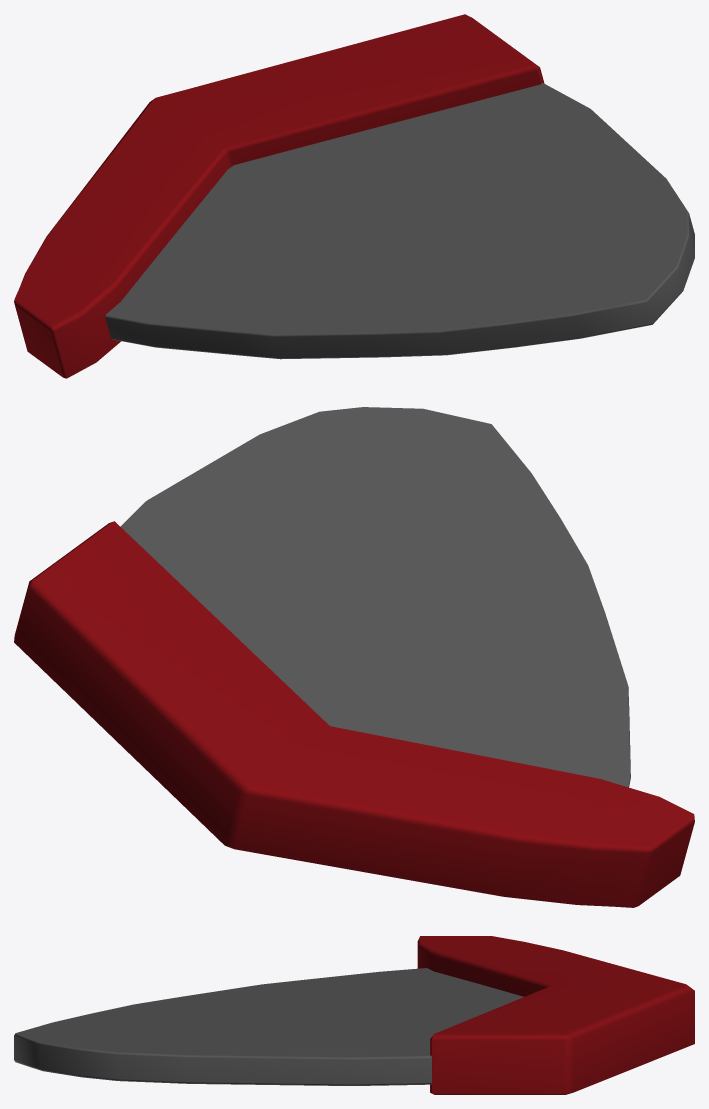
Rendered from Ship_enemy_04_Wing_R.fbx.
3 renders of one model, top to bottom at view 1: azimuth 30°, elevation 25°; view 2: azimuth 150°, elevation 25°; view 3: azimuth 270°, elevation 25°, orthographic. The views are drawn at different scales.
Parts seen in each view (by area): view 1: Ship_enemy_04_Wing_R; view 2: Ship_enemy_04_Wing_R; view 3: Ship_enemy_04_Wing_R.
Boxes of the visible parts, x1,y1,x2,y2 form: Ship_enemy_04_Wing_R: (14, 14, 694, 378); Ship_enemy_04_Wing_R: (14, 407, 694, 907); Ship_enemy_04_Wing_R: (14, 936, 694, 1094).
Size of the model in its own units: 202 by 72.9 by 241.
